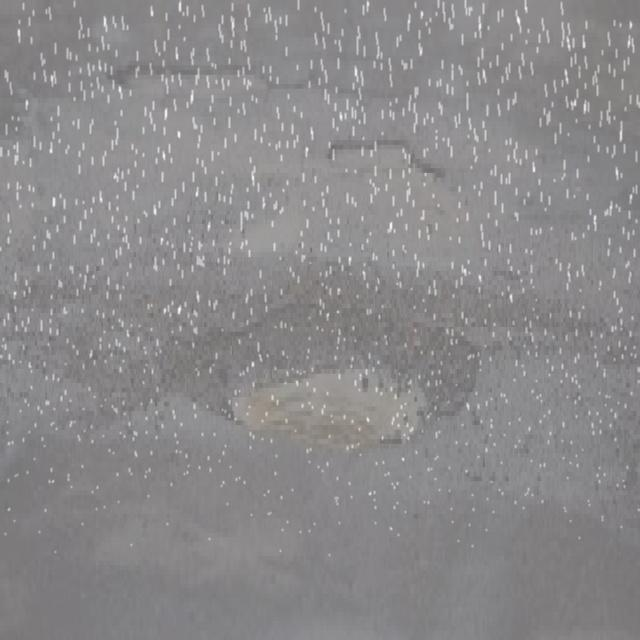Pothole: (164, 277, 555, 500), (316, 121, 484, 212), (91, 42, 306, 110)
